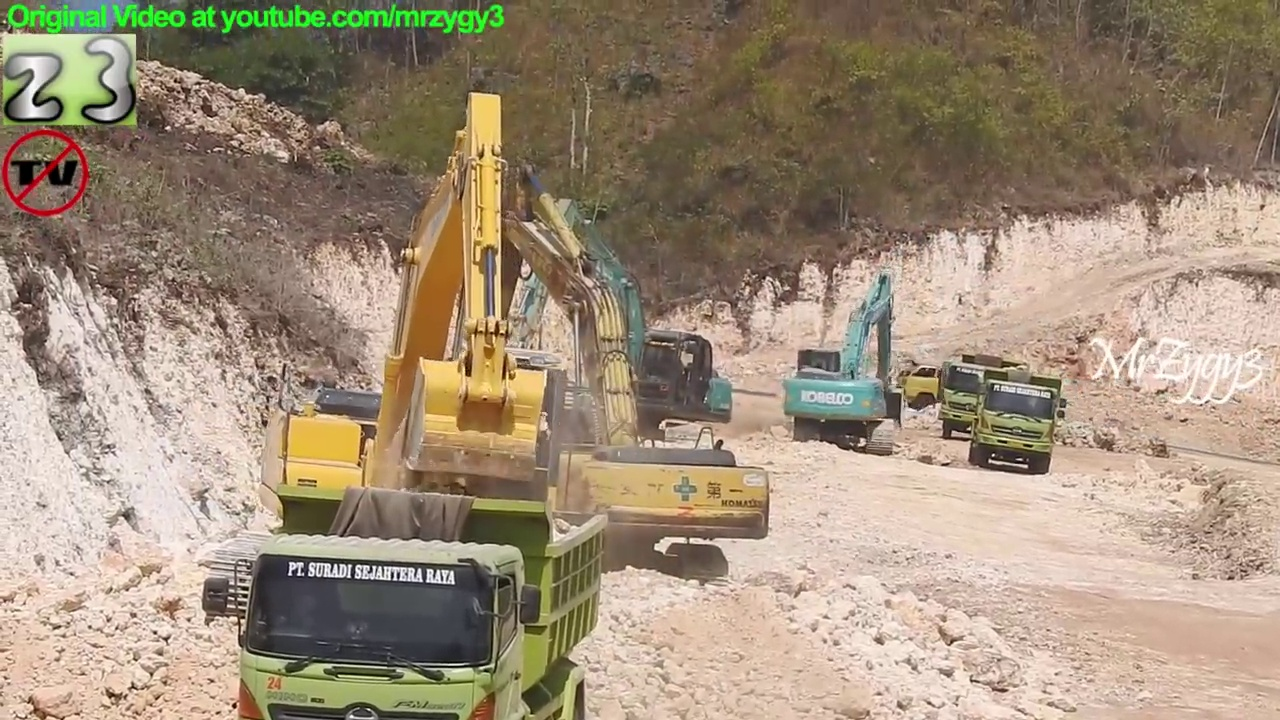excavator: (199, 85, 612, 637), (367, 151, 779, 603), (489, 190, 740, 462), (778, 265, 912, 461)
truck: (200, 479, 615, 720), (965, 367, 1072, 481), (893, 361, 1047, 421), (934, 354, 1034, 444)
